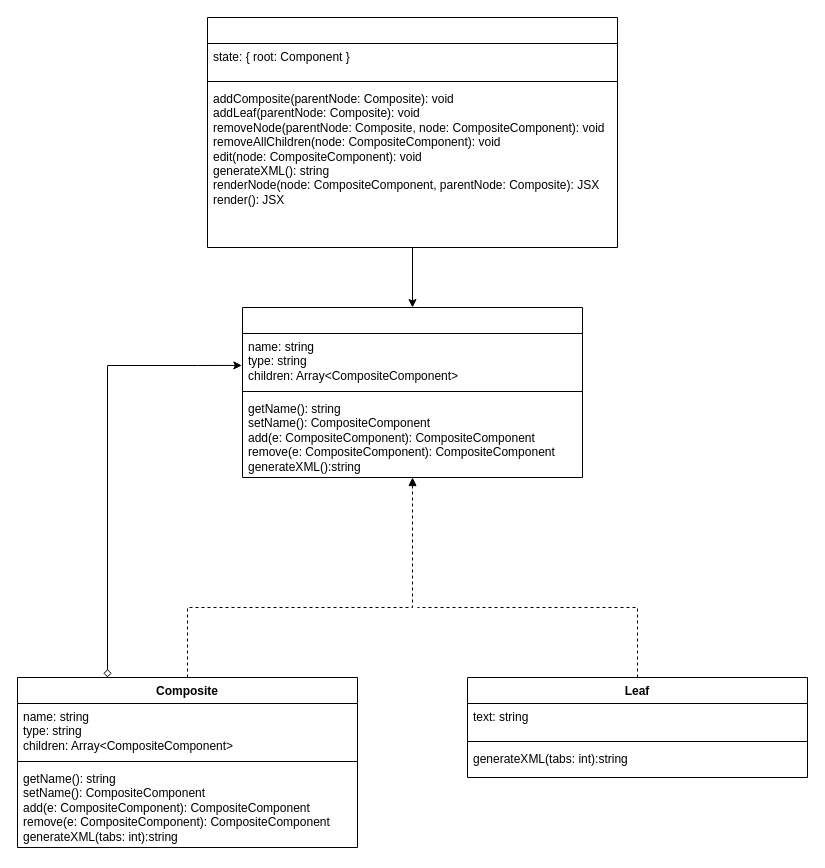
This 825x868 diagram has some shape labels left out. The box of each missing label's shape, as (x1, y1, x2, y2) in pixels:
<<interface>> CompositeComponent: (242, 306, 582, 478)
App: (206, 16, 618, 248)
